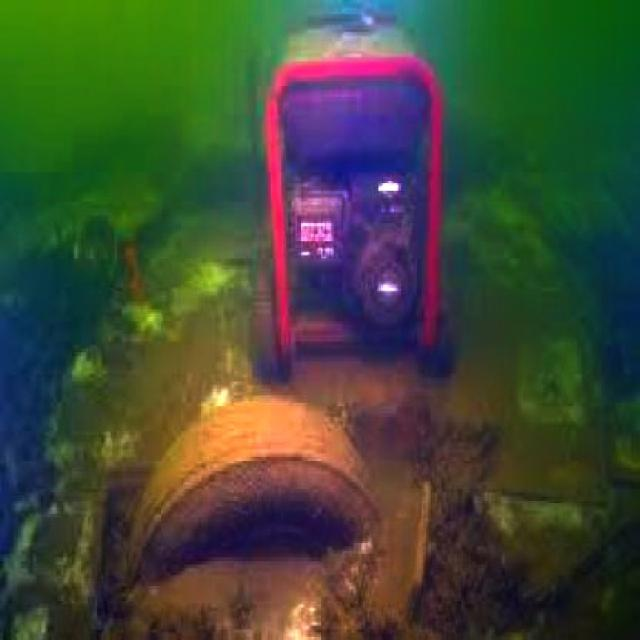misc: (264, 31, 453, 378)
